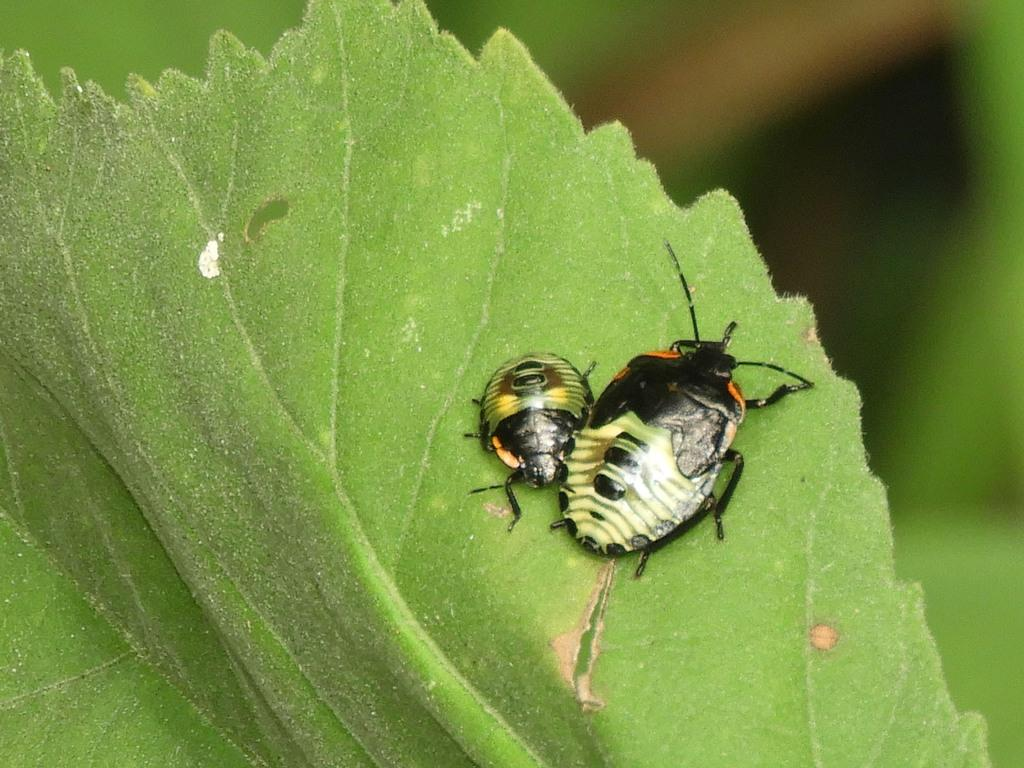stink_bugs: (534, 236, 828, 616), (441, 326, 624, 547)
